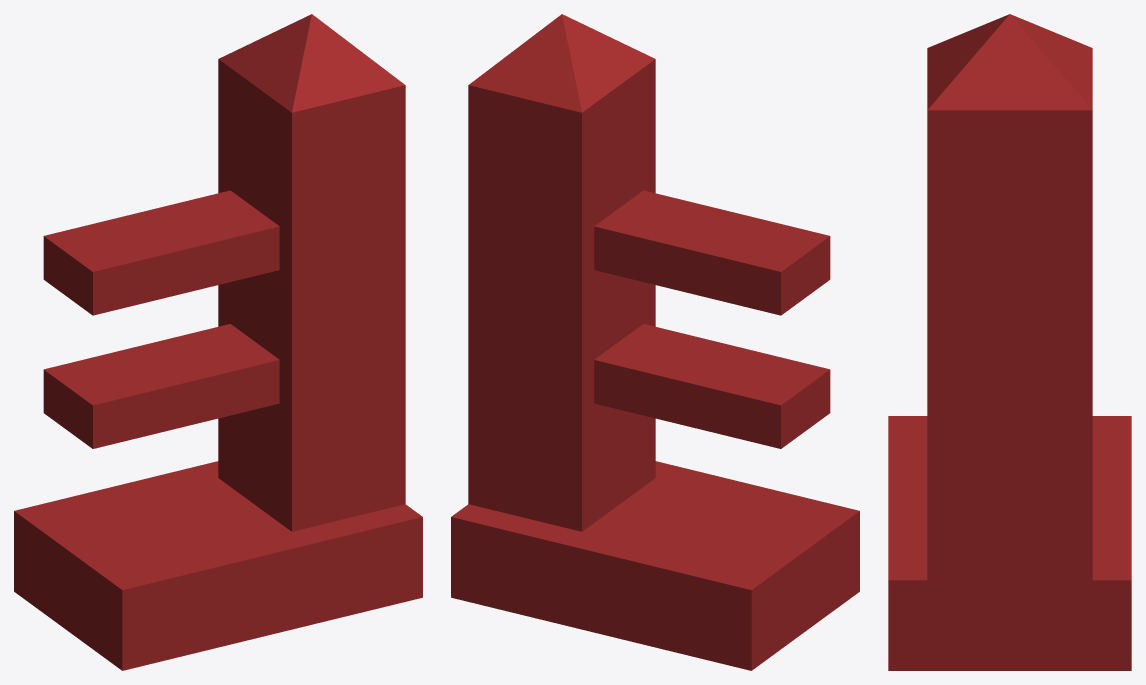
Rendered from Asian_Prop_Building_Fence_Handrail_End_02.FBX.
3 views of the same model, side by side, from view 1: azimuth 30°, elevation 25°; view 2: azimuth 150°, elevation 25°; view 3: azimuth 270°, elevation 25° (orthographic). The views are drawn at different scales.
Parts seen in each view (by area): view 1: Asian_Prop_Building_Fence_Handrail_End_02; view 2: Asian_Prop_Building_Fence_Handrail_End_02; view 3: Asian_Prop_Building_Fence_Handrail_End_02.
Part boxes in pixels (box(x1,y1,x2,y2)): Asian_Prop_Building_Fence_Handrail_End_02: box(14, 14, 422, 670); Asian_Prop_Building_Fence_Handrail_End_02: box(451, 14, 859, 670); Asian_Prop_Building_Fence_Handrail_End_02: box(888, 14, 1131, 670).
Bounding box in the file's own units: 796 × 1413 × 498.
